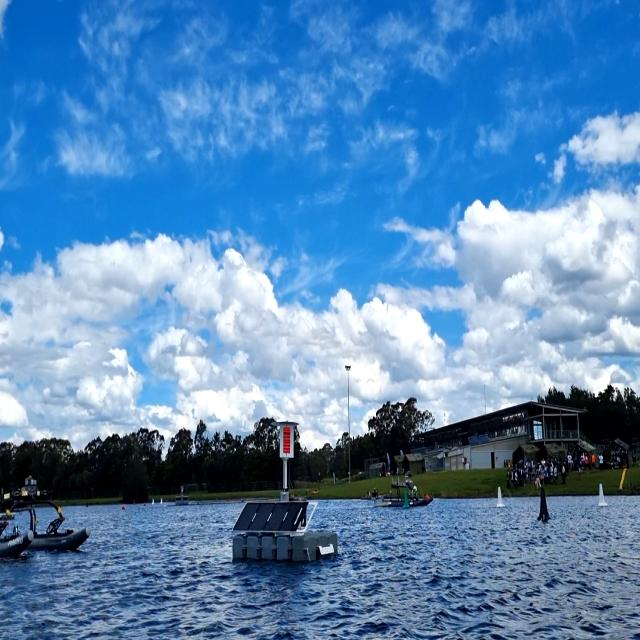led: (281, 425, 292, 457)
